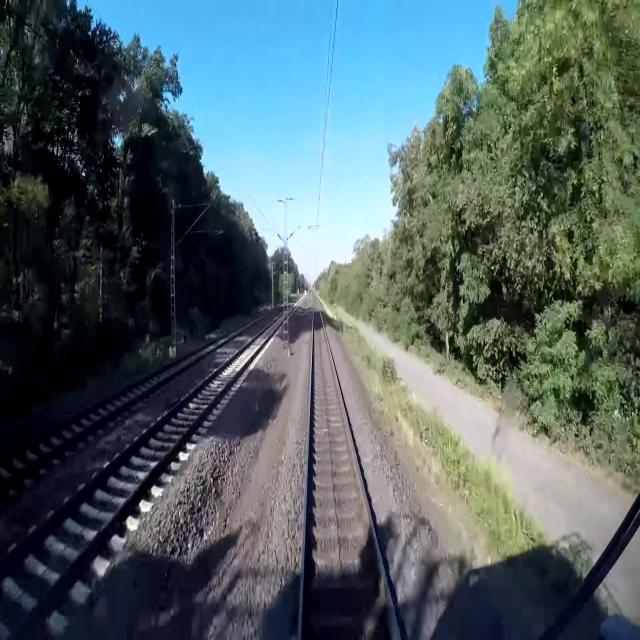rail-track: (1, 315, 282, 631), (0, 328, 240, 479), (302, 293, 396, 639)
